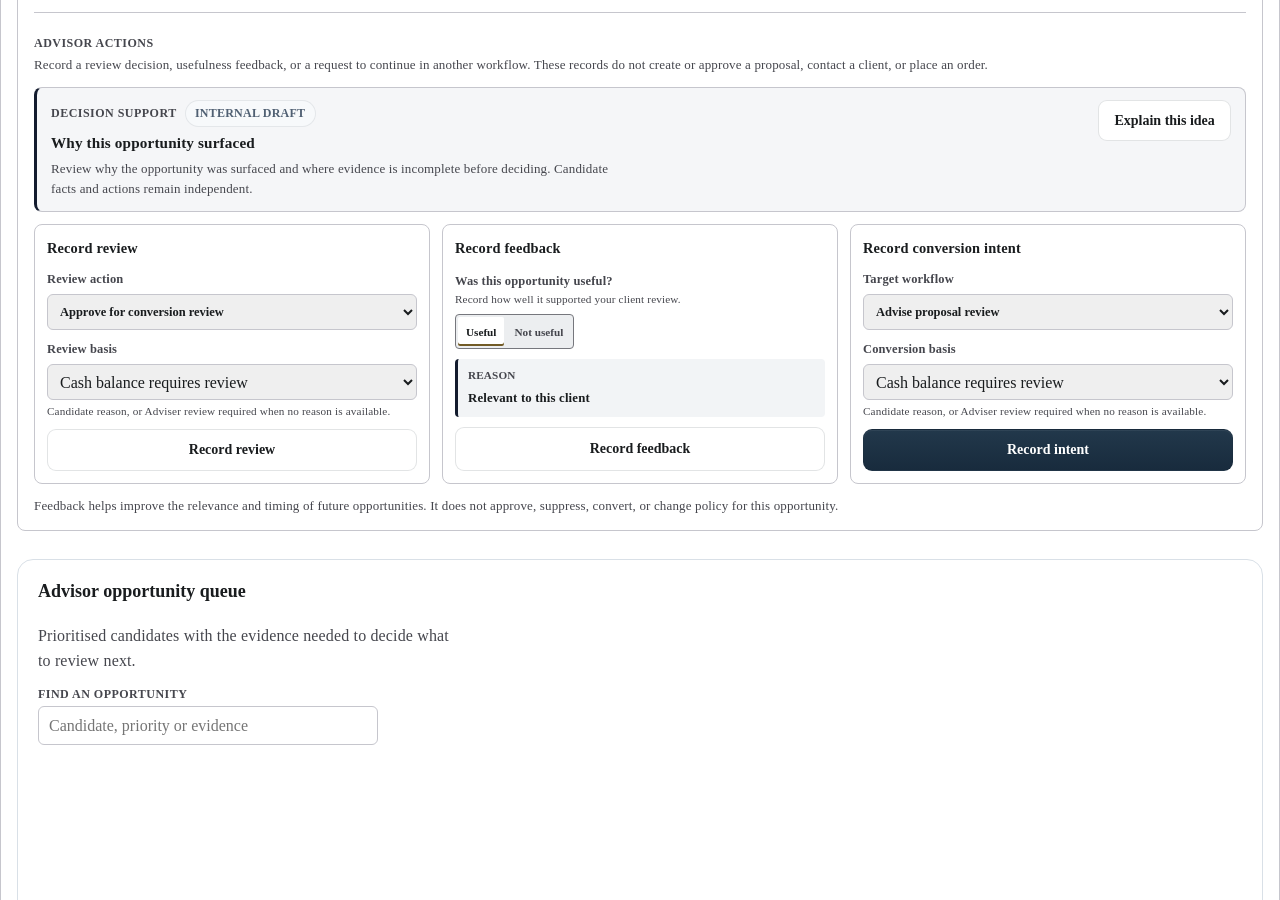
Test: AdvisoryOpportunitiesWorkspace › warns when a recorded advisor action cannot refresh source-owned posture
(page scrolled)
Expected: the element named "Idea candidate advisor actions" is shown, [34,12,1246,516]
Click the button "Record review" at (232, 450), box [47,429,417,471]
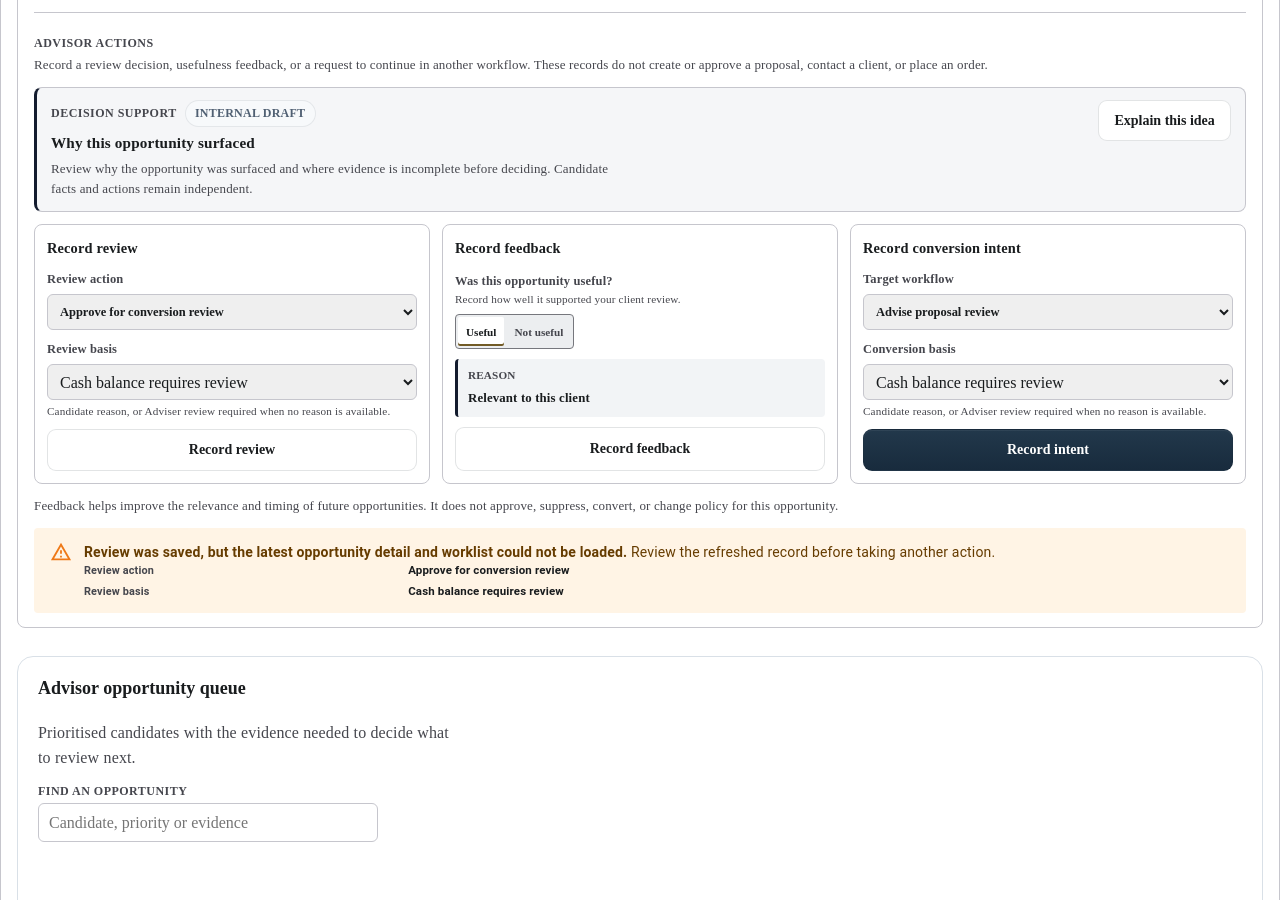
Expected: the message with test id "idea-action-review-status" does not show "Opportunity detail and worklist are current.", [34,528,1246,613]
Expected: the message with test id "idea-action-review-status" shows "Review was saved, but the latest opportunity detail and worklist could not be loaded.", [34,528,1246,613]
